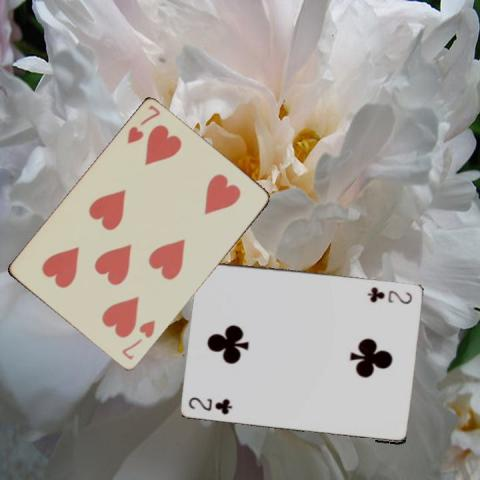2c: (365, 284, 414, 306), (186, 395, 234, 415)
7h: (118, 317, 156, 362), (124, 102, 162, 146)
